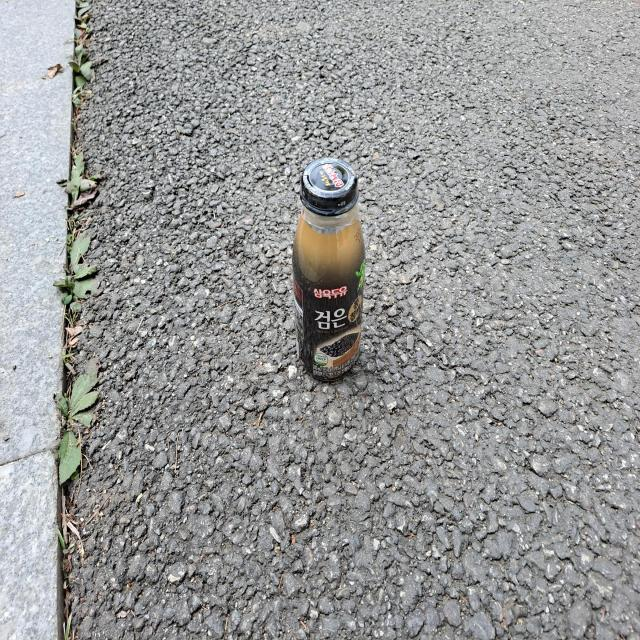glass: (292, 156, 366, 380)
